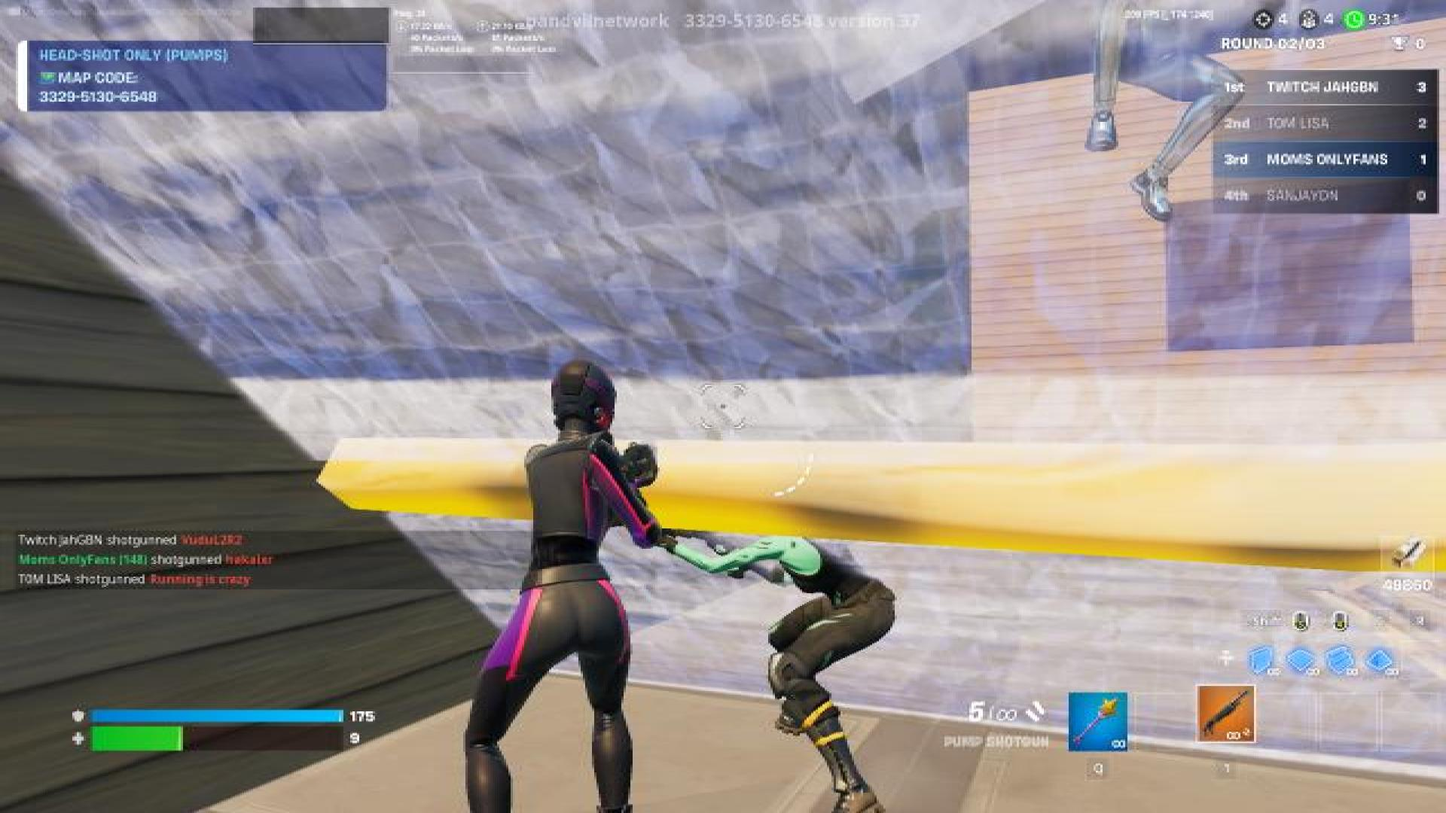player: (654, 481, 982, 812), (1060, 0, 1249, 238)
